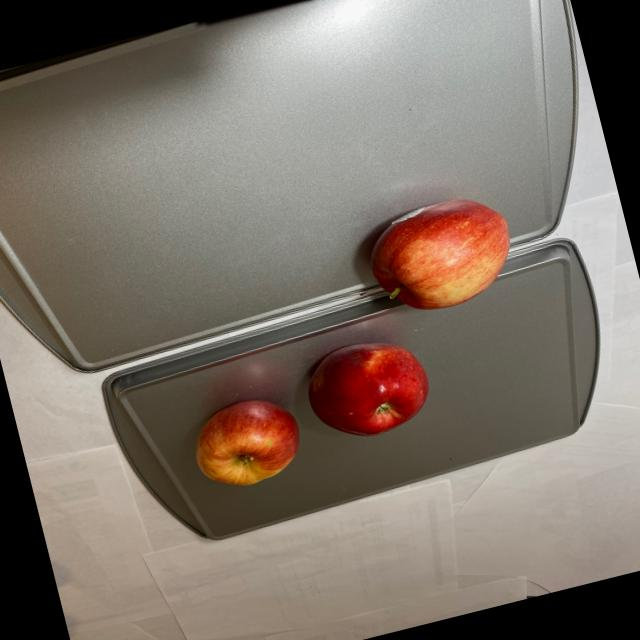apple: (151, 185, 554, 497)
